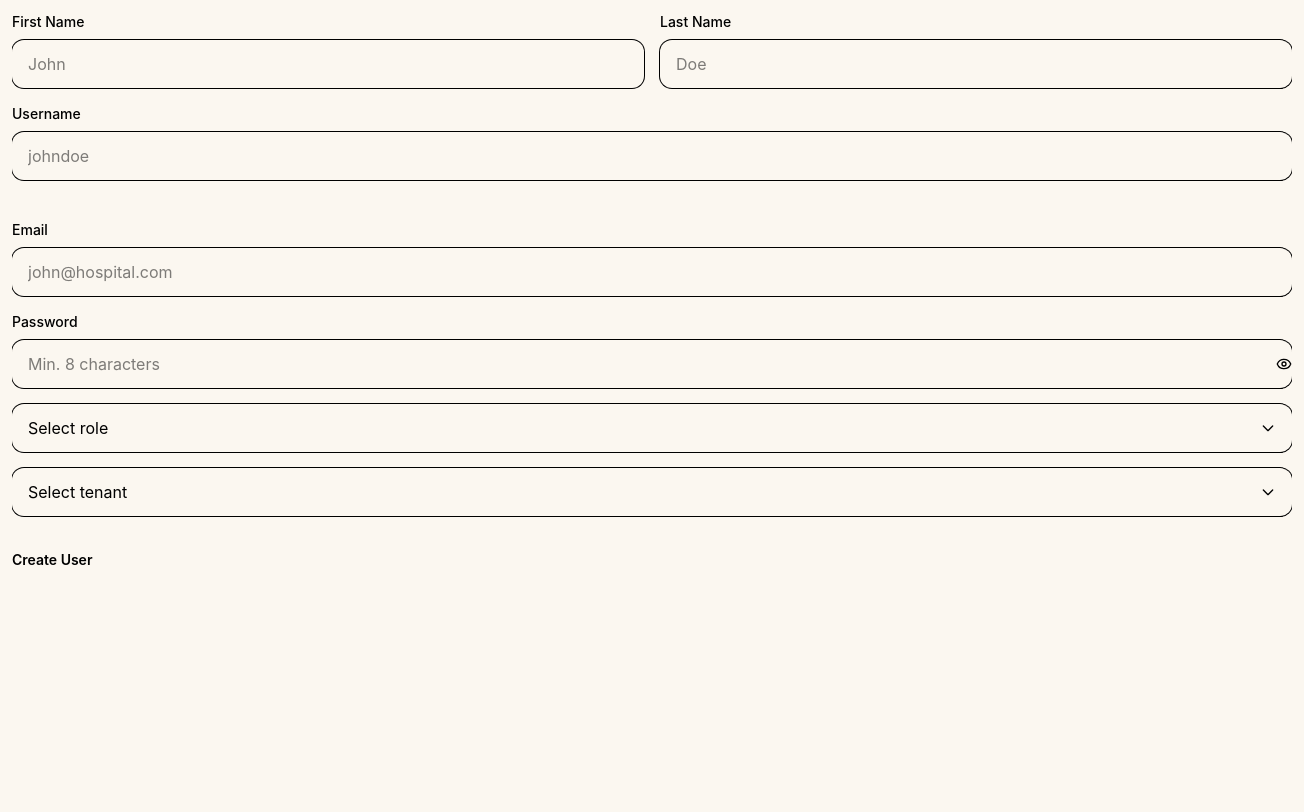
CreateUserForm › reports the username check {"checking":false,"available":false} as Username is already taken
Type "alan" into the field labelled "Username" at (652, 156), box left=12, top=132, right=1292, bottom=180
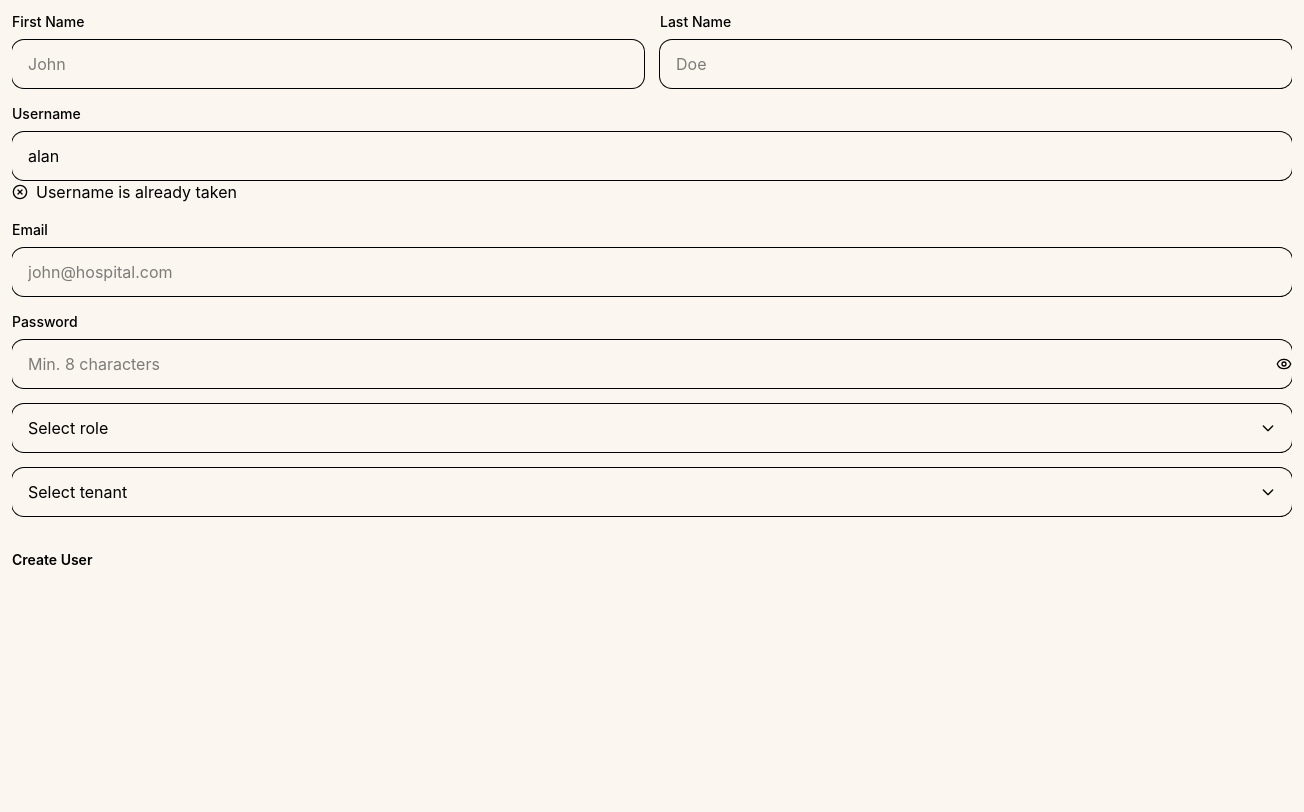
Result: the text "Username is already taken" is shown at left=36, top=180, right=237, bottom=204
